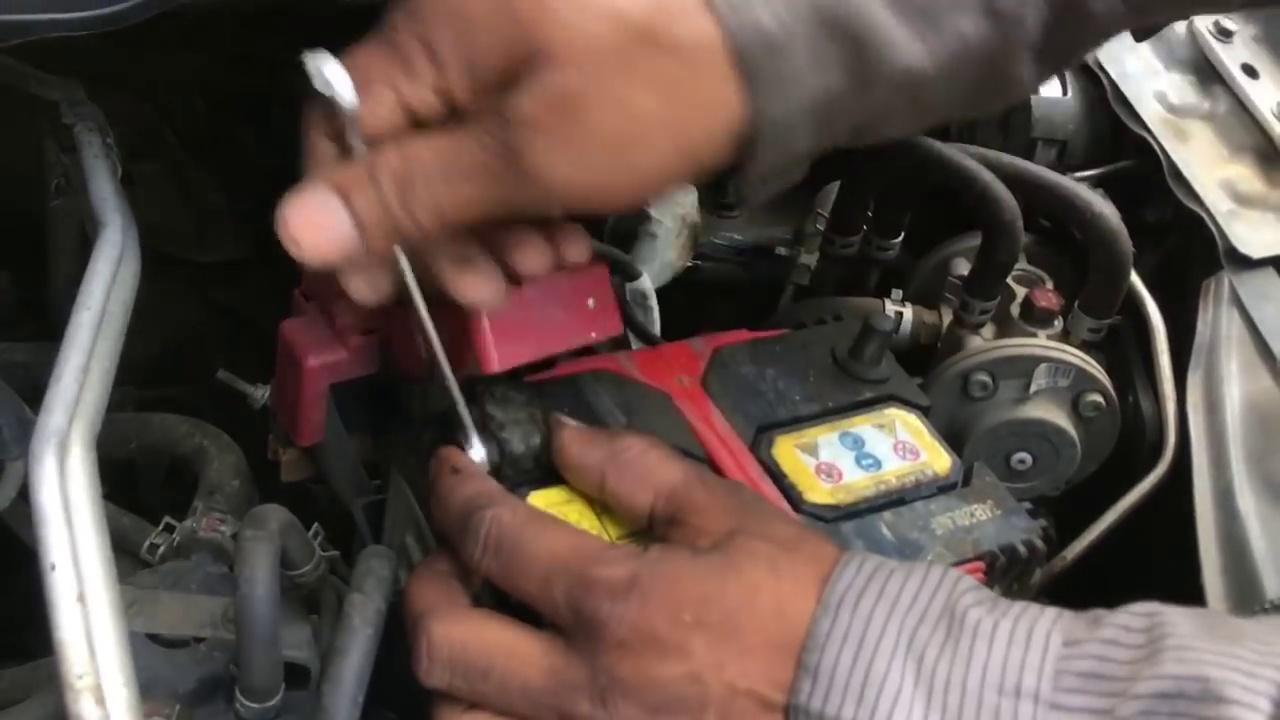battery: (332, 251, 980, 614)
neg_disconnected: (813, 287, 916, 404)
pos_touched: (264, 143, 646, 567)
